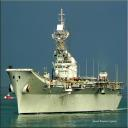Portanaves: (5, 7, 126, 117)
